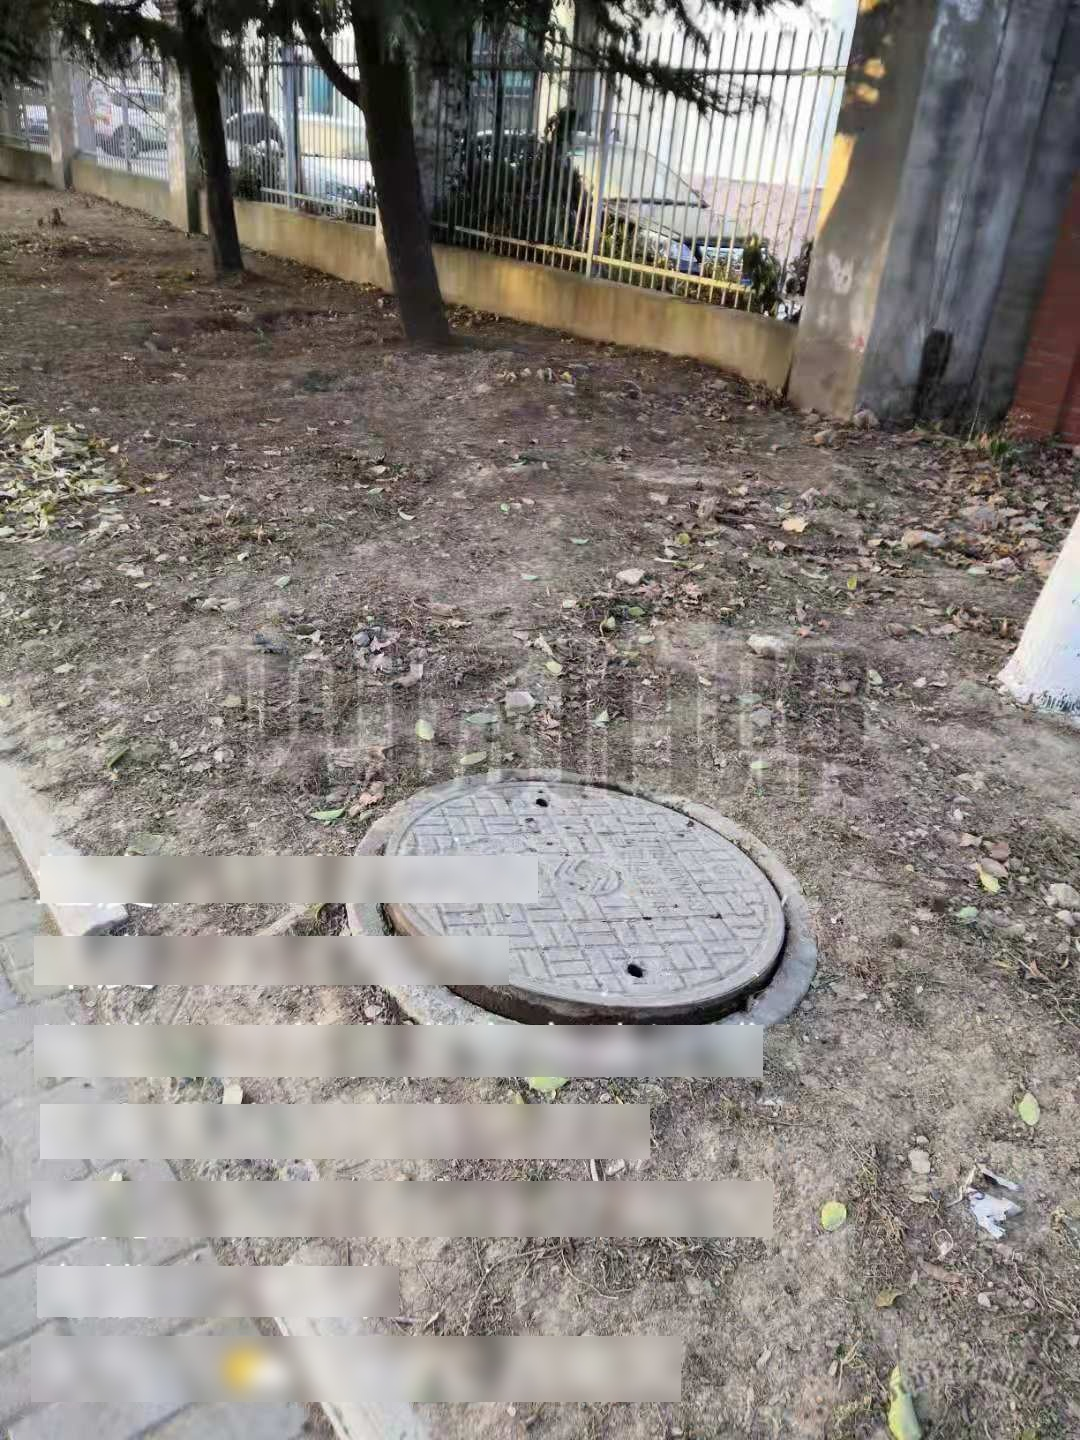uncovered: (351, 766, 816, 1074)
